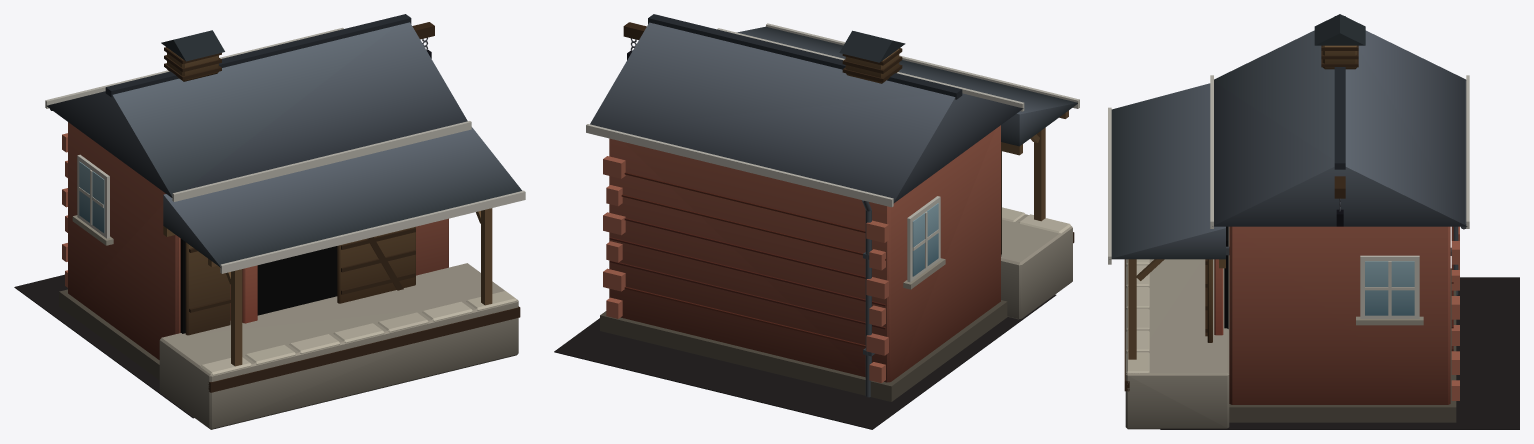
The model's file is goods-shed.glb.
3 views of the same model, side by side, from view 1: azimuth 30°, elevation 25°; view 2: azimuth 150°, elevation 25°; view 3: azimuth 270°, elevation 25° (orthographic). The views are drawn at different scales.
Visible parts, largest first — view 1: goods_shed; view 2: goods_shed; view 3: goods_shed.
Part boxes in pixels (box(x1,y1,x2,y2)): goods_shed: box(14, 14, 525, 429); goods_shed: box(554, 14, 1079, 429); goods_shed: box(1108, 14, 1519, 429).
Size of the model in its own units: 5.52 by 4.76 by 5.95.
